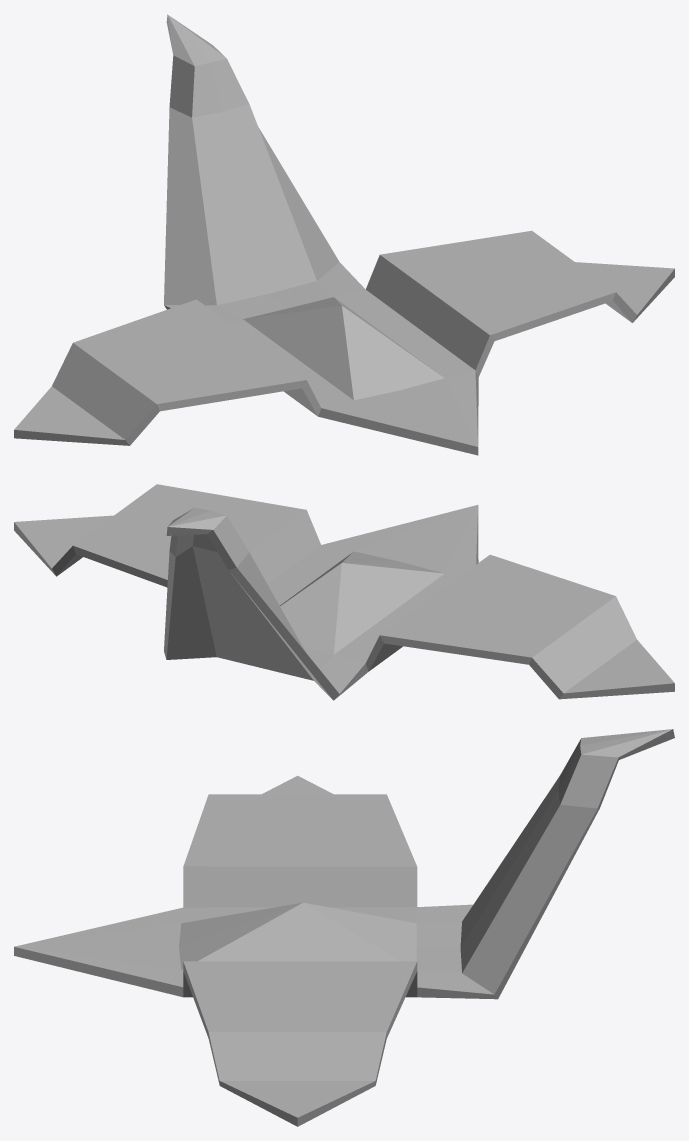
Rendered from Bird.fbx.
3 views of the same model, one above another, from view 1: azimuth 30°, elevation 25°; view 2: azimuth 150°, elevation 25°; view 3: azimuth 270°, elevation 25° (orthographic). The views are drawn at different scales.
Visible parts, largest first — view 1: Bird; view 2: Bird; view 3: Bird.
Boxes of the visible parts, <box> form: Bird: <box>14,14,674,455</box>; Bird: <box>14,484,674,700</box>; Bird: <box>14,729,674,1126</box>.
Bounding box in the file's own units: 31.34 × 9.69 × 25.58.
